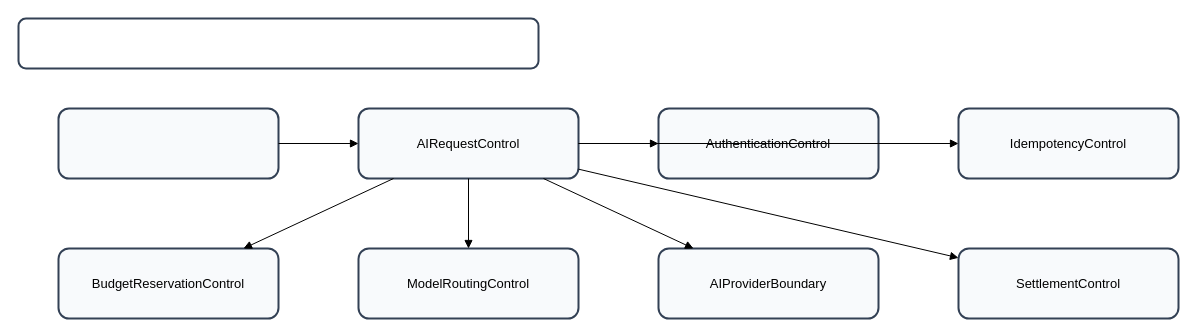
Some shapes in this 1196 by 336 pixel diagram are drawn without their labels. The shapes that lost their labels are listed below. From the top down, each one's box as (x1, y1, x2, y2) in pixels, then its label:
(17, 17, 539, 69): Điều phối yêu cầu AI
(57, 107, 279, 179): AIRequestBoundary
